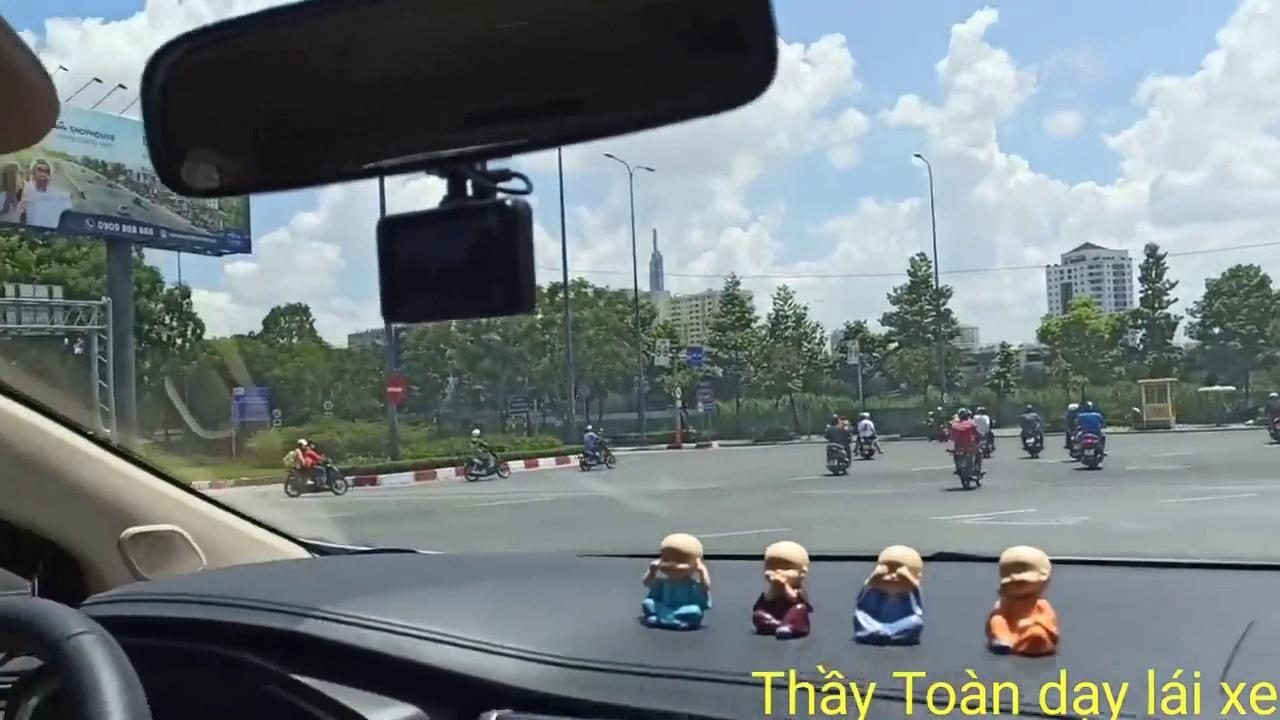Cấm cac phương tiện hoạt động trong khung giờ cố định: (653, 336, 670, 366)
Cấm đi ngược chiều: (381, 371, 409, 404)
Khác: (230, 385, 271, 422), (695, 380, 716, 413)
Làn đường cho từng xe: (685, 346, 704, 367)
